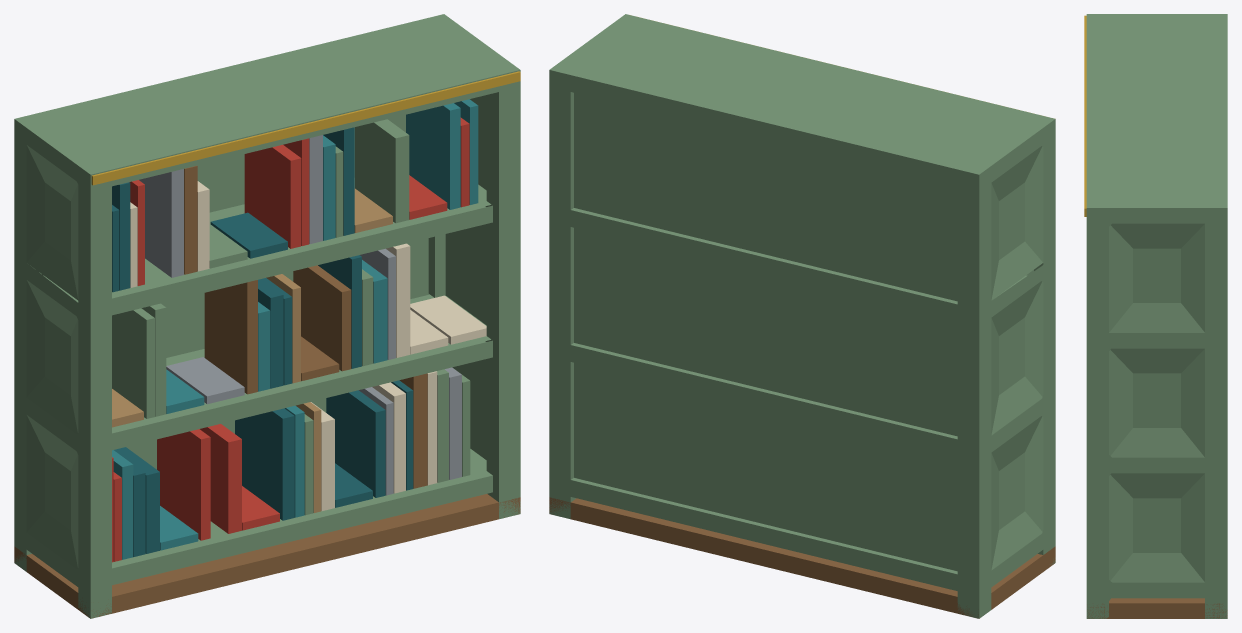
Rendered from bookcaseClosedWide.glb.
3 renders of one model, left to right at view 1: azimuth 30°, elevation 25°; view 2: azimuth 150°, elevation 25°; view 3: azimuth 270°, elevation 25°, orthographic. The views are drawn at different scales.
Visible parts, largest first — view 1: bookcaseClosedWide(Clone); view 2: bookcaseClosedWide(Clone); view 3: bookcaseClosedWide(Clone).
Part boxes in pixels (<box>): bookcaseClosedWide(Clone): <box>14,14,520,618</box>; bookcaseClosedWide(Clone): <box>549,14,1055,618</box>; bookcaseClosedWide(Clone): <box>1084,14,1227,618</box>.
Bounding box in the file's own units: 0.8 × 0.79 × 0.25.
